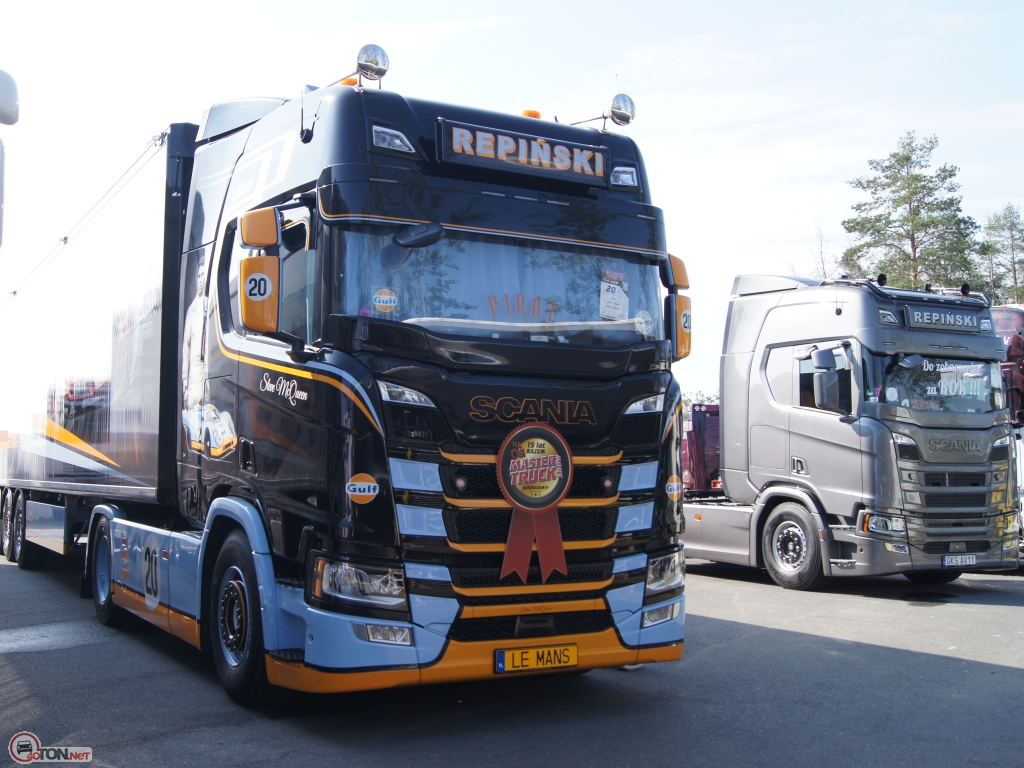tablica: (492, 643, 579, 670), (940, 556, 975, 565)
